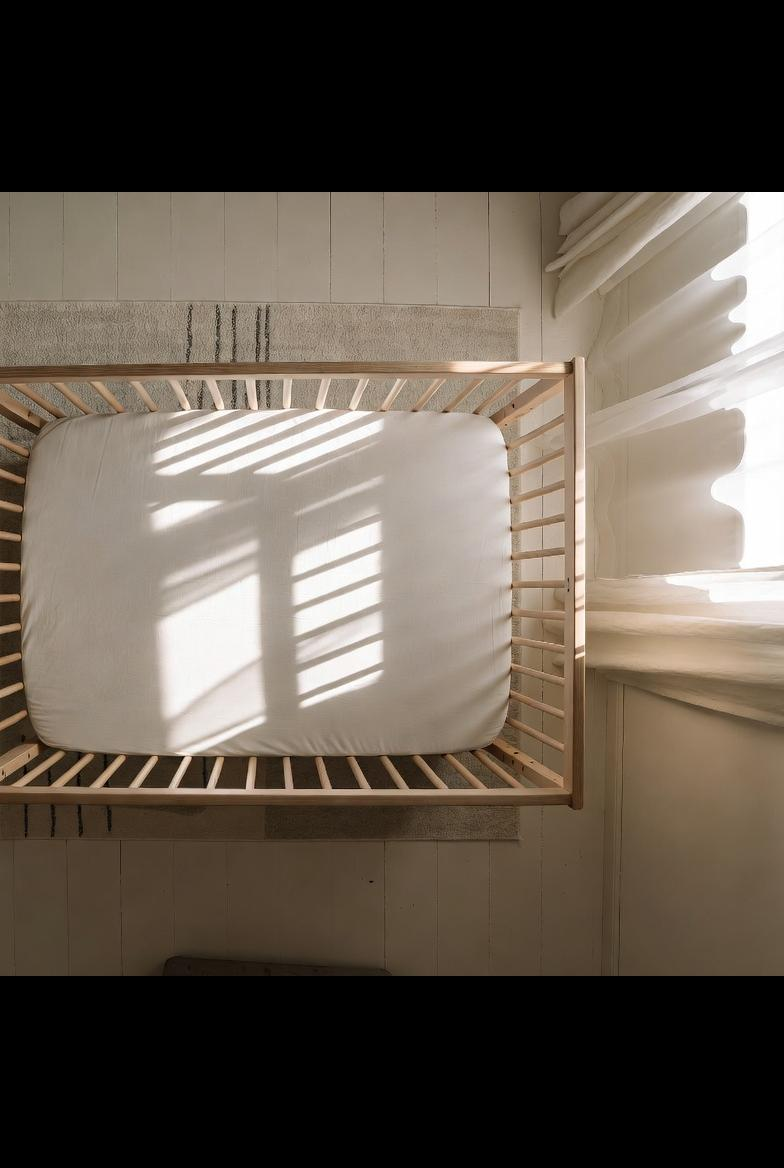crib: (0, 358, 584, 808)
